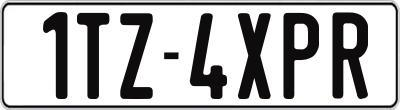1: (41, 11, 69, 101)
4: (188, 12, 225, 101)
P: (283, 13, 322, 103)
R: (330, 9, 371, 98)
T: (74, 10, 106, 100)
X: (235, 11, 271, 97)
Z: (119, 12, 156, 104)
